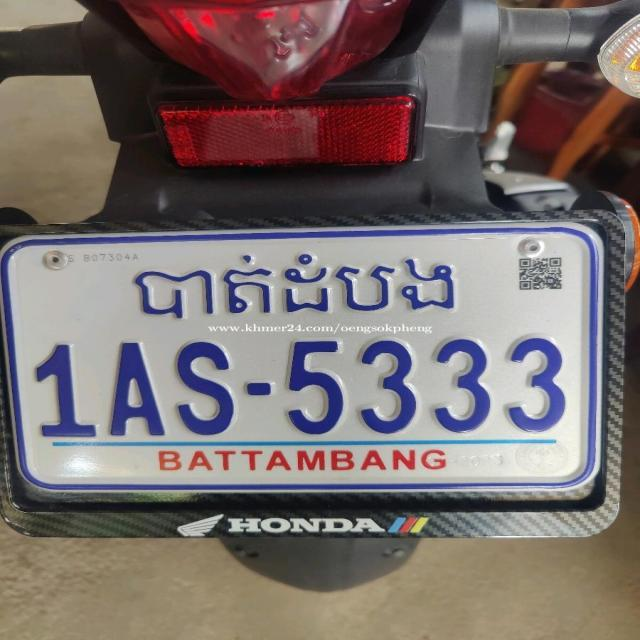Battambang: (135, 254, 458, 321)
